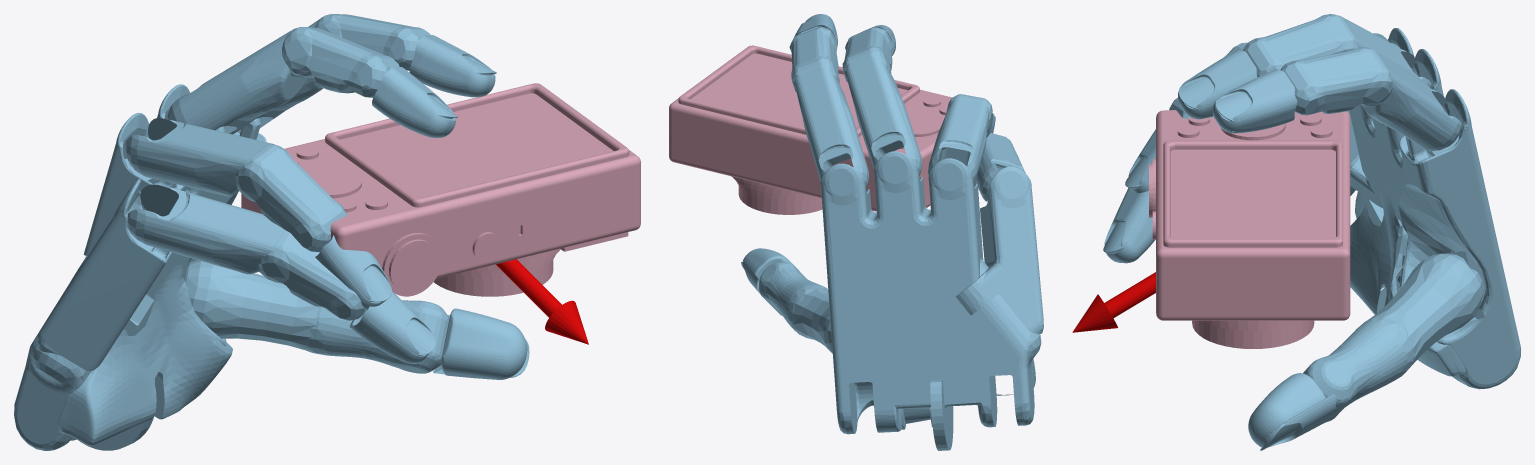
3 renders of one model, left to right at view 1: azimuth 30°, elevation 25°; view 2: azimuth 150°, elevation 25°; view 3: azimuth 270°, elevation 25°, orthographic. The views are drawn at different scales.
Visible parts, largest first — view 1: world, camera.stl; view 2: world, camera.stl; view 3: world, camera.stl.
Part boxes in pixels (x1,y1,x2,y2): world: [14, 14, 588, 450]; camera.stl: [241, 83, 640, 296]; world: [741, 14, 1043, 450]; camera.stl: [669, 45, 951, 214]; world: [1072, 14, 1520, 450]; camera.stl: [1149, 110, 1350, 348].
Size of the model in its own units: 0.1828 by 0.1505 by 0.1496.
